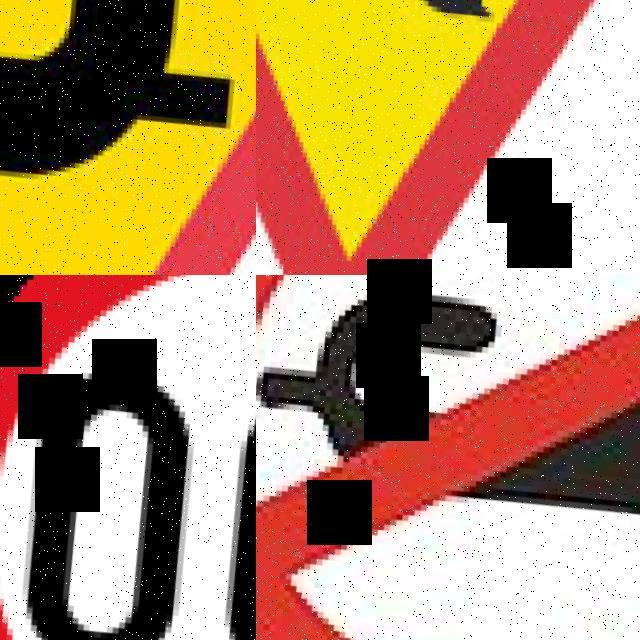166: (0, 0, 256, 275)
Horn prohibited: (256, 275, 640, 640)
speed limit-100: (0, 275, 256, 640)
warning wild animal: (256, 0, 640, 275)
